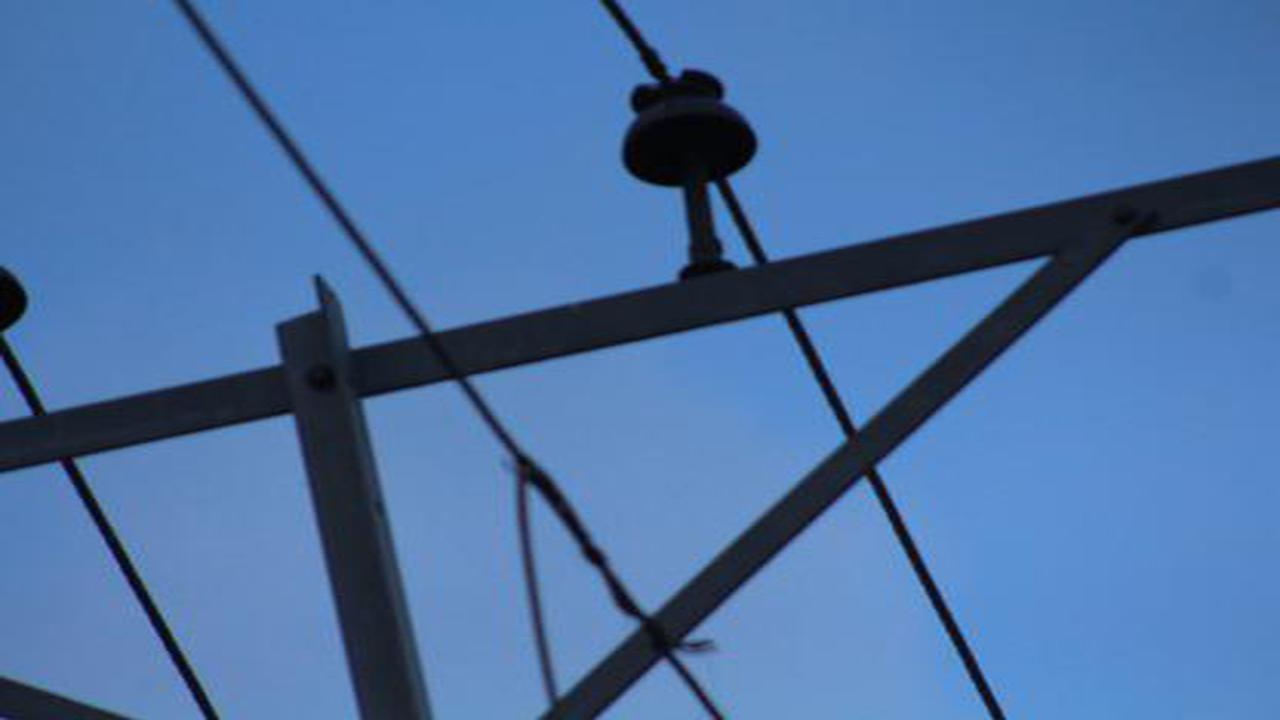insulator_pin: (613, 72, 767, 196)
